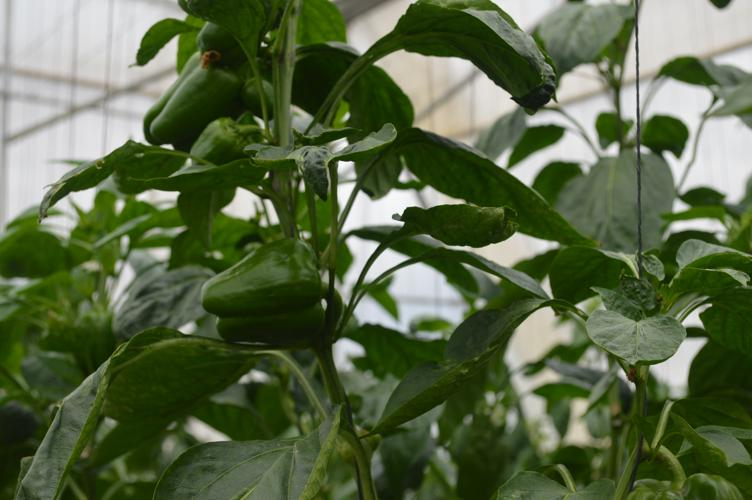BellPepper: (185, 229, 335, 353), (137, 48, 248, 154), (185, 115, 250, 173)
